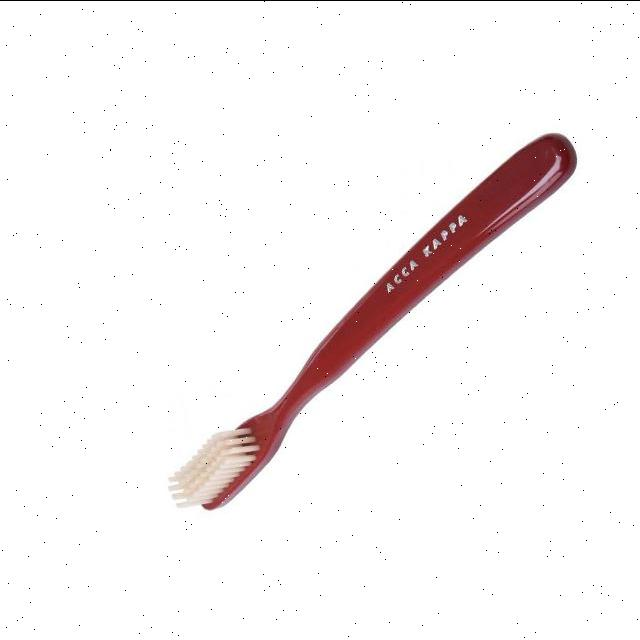toothbrush: (152, 405, 304, 519)
